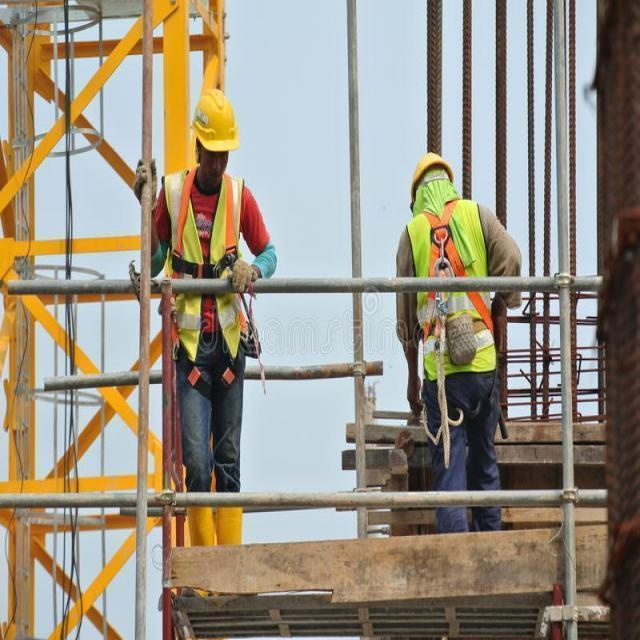Arnes_seguridad: (164, 166, 252, 407), (412, 193, 499, 434)
